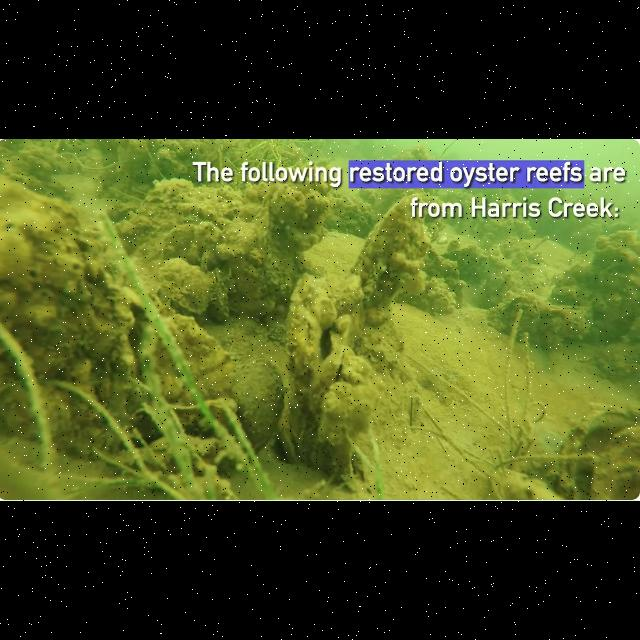Oyster-Closed: (0, 177, 134, 467), (351, 198, 430, 327), (556, 232, 639, 341), (143, 315, 236, 407), (233, 358, 284, 452), (108, 438, 231, 471), (319, 382, 378, 447), (127, 405, 217, 447), (158, 258, 213, 316), (538, 302, 589, 350), (246, 188, 276, 263), (171, 193, 230, 228), (226, 255, 264, 300), (148, 139, 189, 179), (208, 268, 234, 323), (15, 145, 59, 177), (1, 164, 45, 193), (163, 224, 195, 263), (207, 399, 238, 430), (200, 244, 219, 273), (441, 246, 477, 258)
Oyster-Open: (281, 275, 371, 474), (560, 409, 639, 500), (310, 344, 359, 420), (502, 298, 544, 347), (52, 149, 93, 173), (108, 202, 136, 223)
